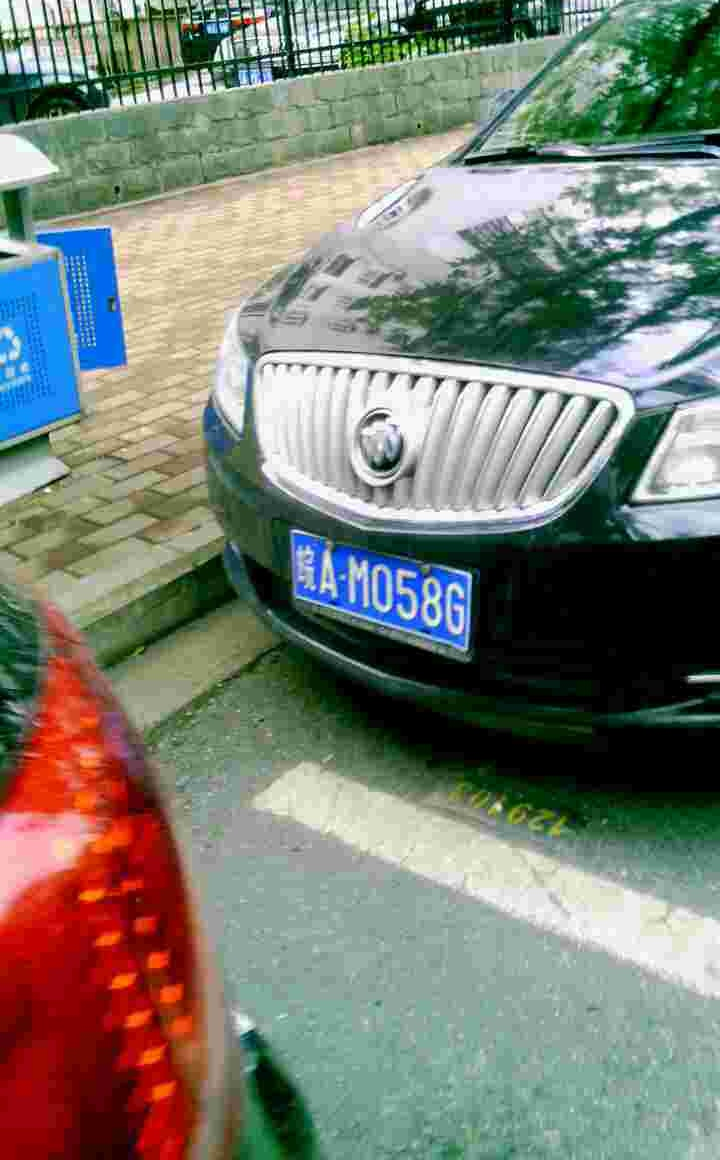plate: (289, 521, 476, 655)
